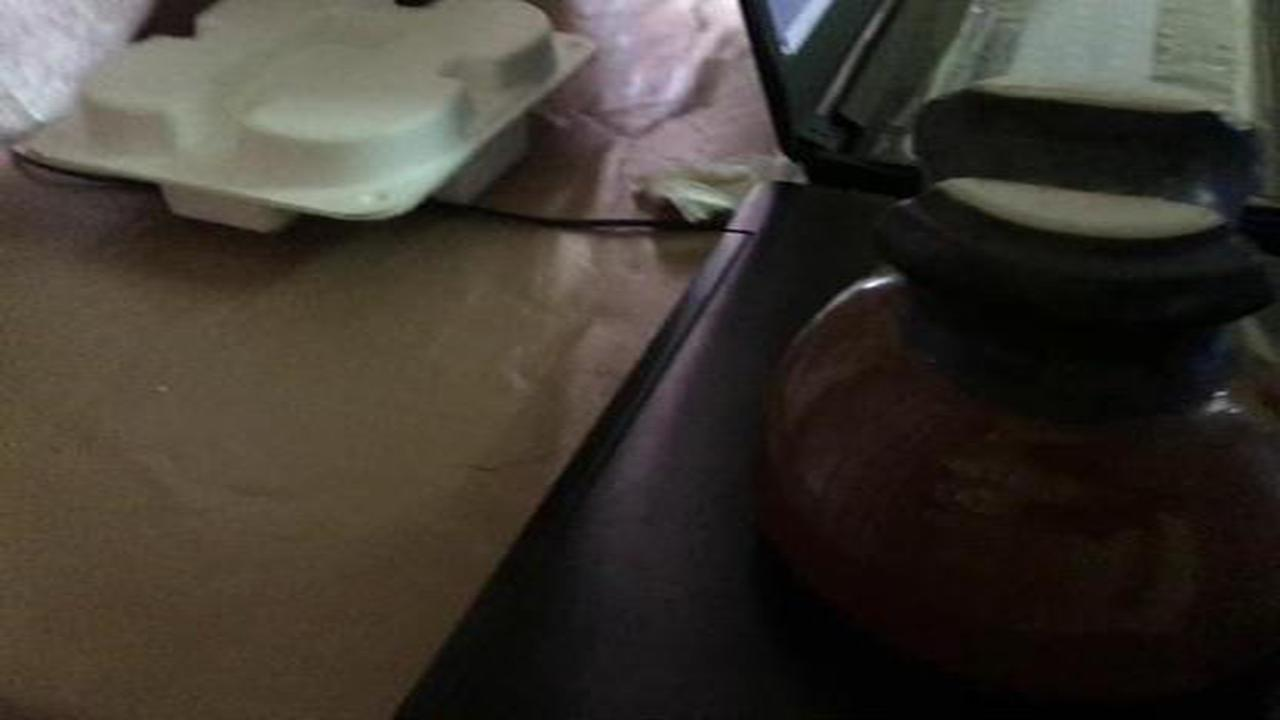insulator_pin: (736, 75, 1280, 677)
